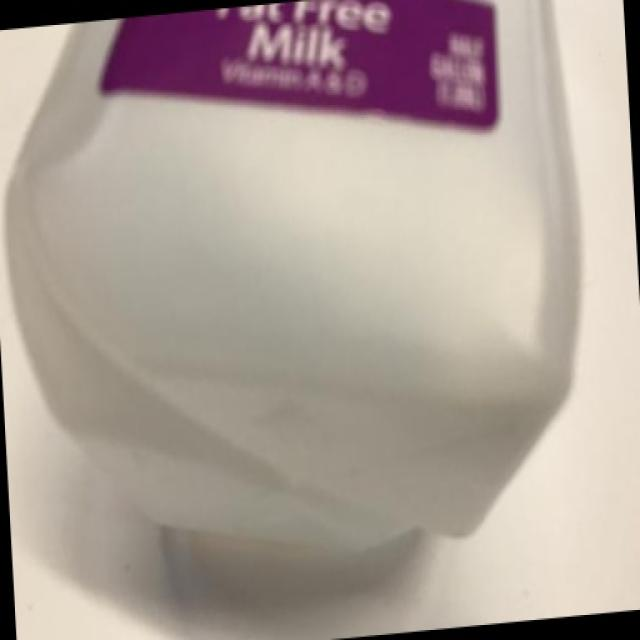plastico: (12, 12, 622, 589)
